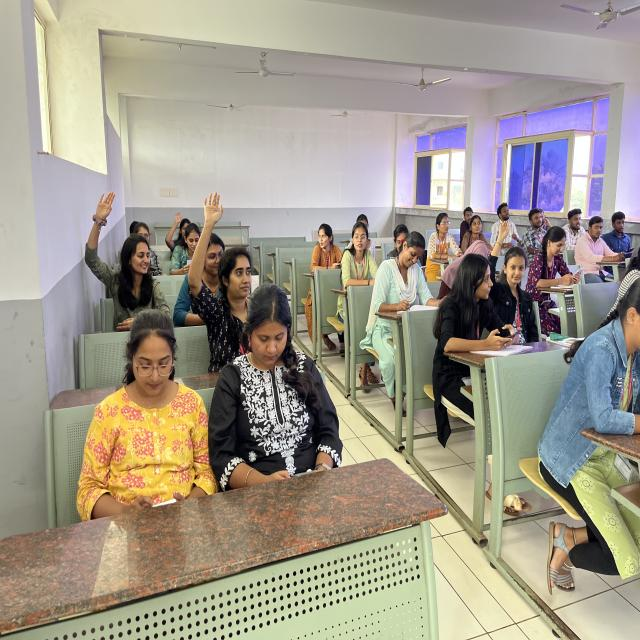Hand Rising: (186, 182, 261, 366), (77, 179, 168, 316), (493, 225, 540, 364)
Using Phone: (218, 275, 374, 518), (79, 296, 203, 516), (427, 252, 512, 374), (535, 221, 589, 312), (580, 208, 636, 274), (308, 225, 348, 288), (610, 204, 640, 272)
Writing: (371, 233, 439, 350)
